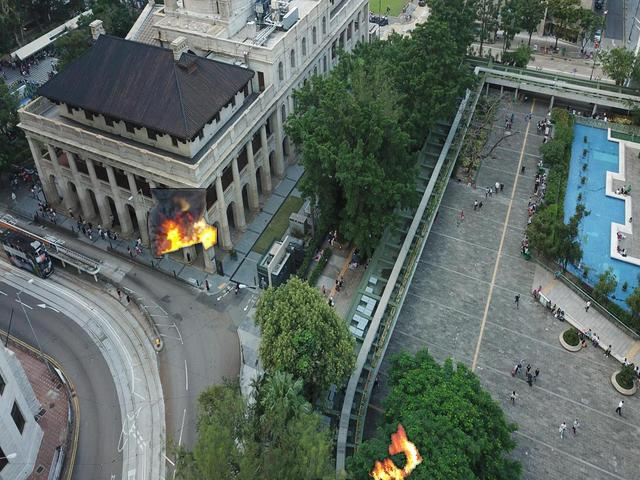fire: (148, 188, 216, 257), (367, 423, 423, 480)
